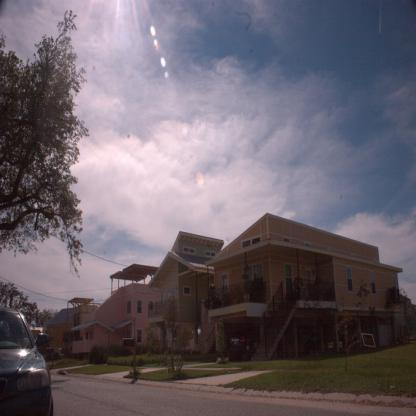car: (2, 312, 48, 406)
